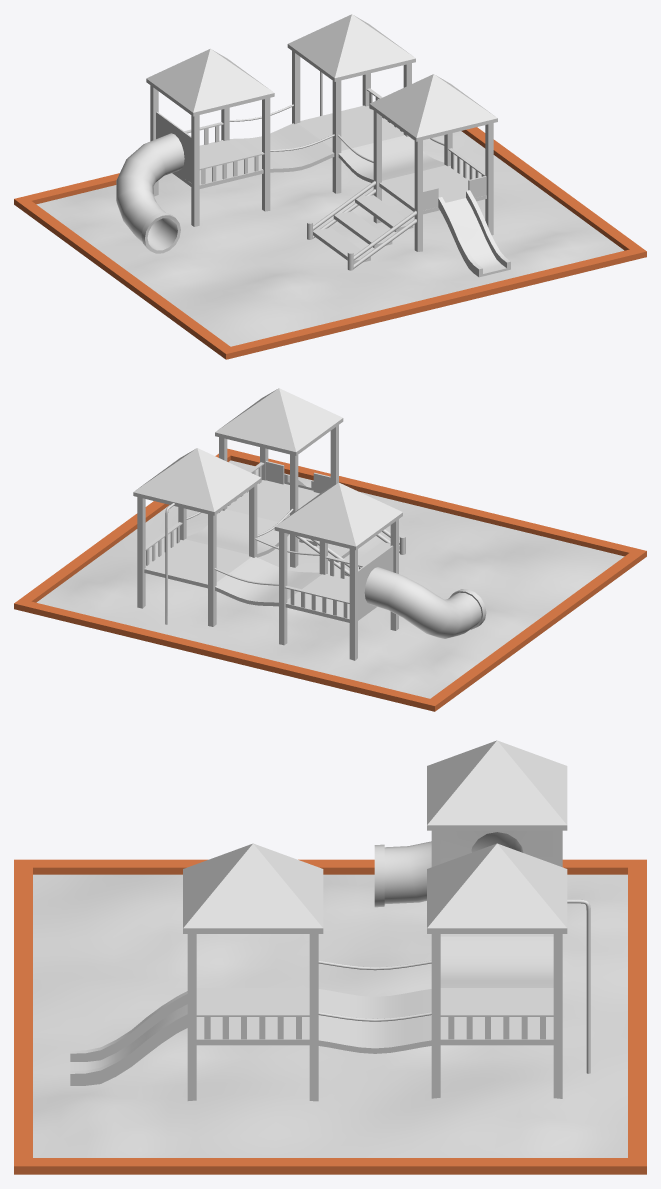
File: castillo.fbx
3 renders of one model, top to bottom at view 1: azimuth 30°, elevation 25°; view 2: azimuth 150°, elevation 25°; view 3: azimuth 270°, elevation 25°, orthographic. The views are drawn at different scales.
Parts seen in each view (by area): view 1: sm_arena, sm_separador_terreno, sm_tobogán, sm_techo, sm_techo.001, sm_techo.002, sm_tobogán.001, sm_camino.003, sm_camino.004, sm_camino.001, sm_camino, sm_camino.002 (+10 smaller); view 2: sm_arena, sm_separador_terreno, sm_tobogán, sm_techo, sm_techo.002, sm_techo.001, sm_camino.003, sm_camino.001, sm_camino.004, sm_camino, sm_camino.002, sm_vigas.002 (+7 smaller); view 3: sm_arena, sm_separador_terreno, sm_techo.002, sm_techo.001, sm_techo, sm_camino.004, sm_tobogán, sm_camino.003, sm_camino.001, sm_camino, sm_tobogán.001, sm_vigas.004 (+4 smaller).
Part boxes in pixels (x1,y1,x2,y2): sm_arena: (36,131,623,346); sm_separador_terreno: (14,127,646,359); sm_tobogán: (116,112,191,253); sm_techo: (369,74,497,141); sm_techo.001: (287,14,415,81); sm_techo.002: (146,48,274,116); sm_tobogán.001: (438,190,510,277); sm_camino.003: (227,123,334,172); sm_camino.004: (338,135,445,182); sm_camino.001: (298,105,404,150); sm_camino: (379,165,486,214); sm_camino.002: (172,140,263,188); sm_arena: (36,460,624,698); sm_separador_terreno: (14,448,646,711); sm_tobogán: (358,545,486,638); sm_techo: (215,388,343,455); sm_techo.002: (274,482,402,550); sm_techo.001: (133,448,261,515); sm_camino.003: (215,557,321,606); sm_camino.001: (144,539,250,588); sm_camino.004: (185,509,289,557); sm_camino: (226,480,319,522); sm_camino.002: (285,574,376,622); sm_vigas.002: (349,549,357,660); sm_arena: (33,874,627,1157); sm_separador_terreno: (14,859,646,1174); sm_techo.002: (427,740,567,830); sm_techo.001: (427,843,567,933); sm_techo: (183,843,323,933); sm_camino.004: (318,989,431,1053); sm_tobogán: (374,830,553,907); sm_camino.003: (440,936,553,987); sm_camino.001: (440,988,553,1045); sm_camino: (196,988,309,1045); sm_tobogán.001: (70,991,187,1085); sm_vigas.004: (309,934,318,1101).
Bounding box in the file's own units: 1189 × 424 × 1038.
